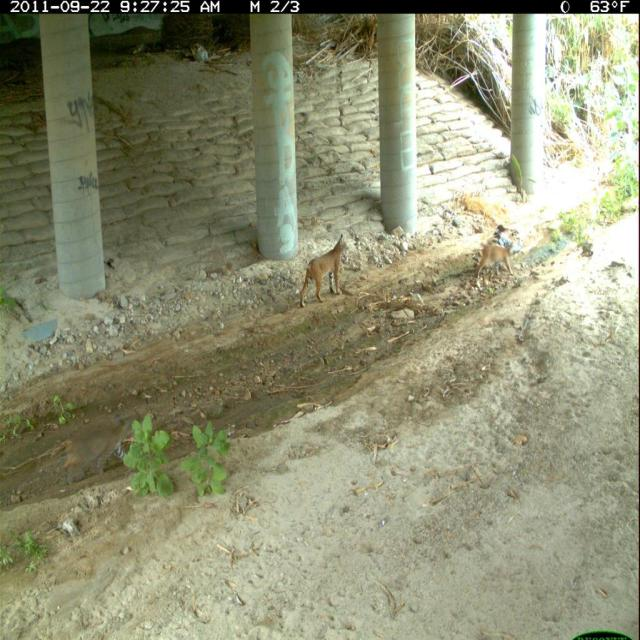bobcat: (62, 414, 140, 490), (297, 230, 353, 311), (474, 237, 521, 286)
